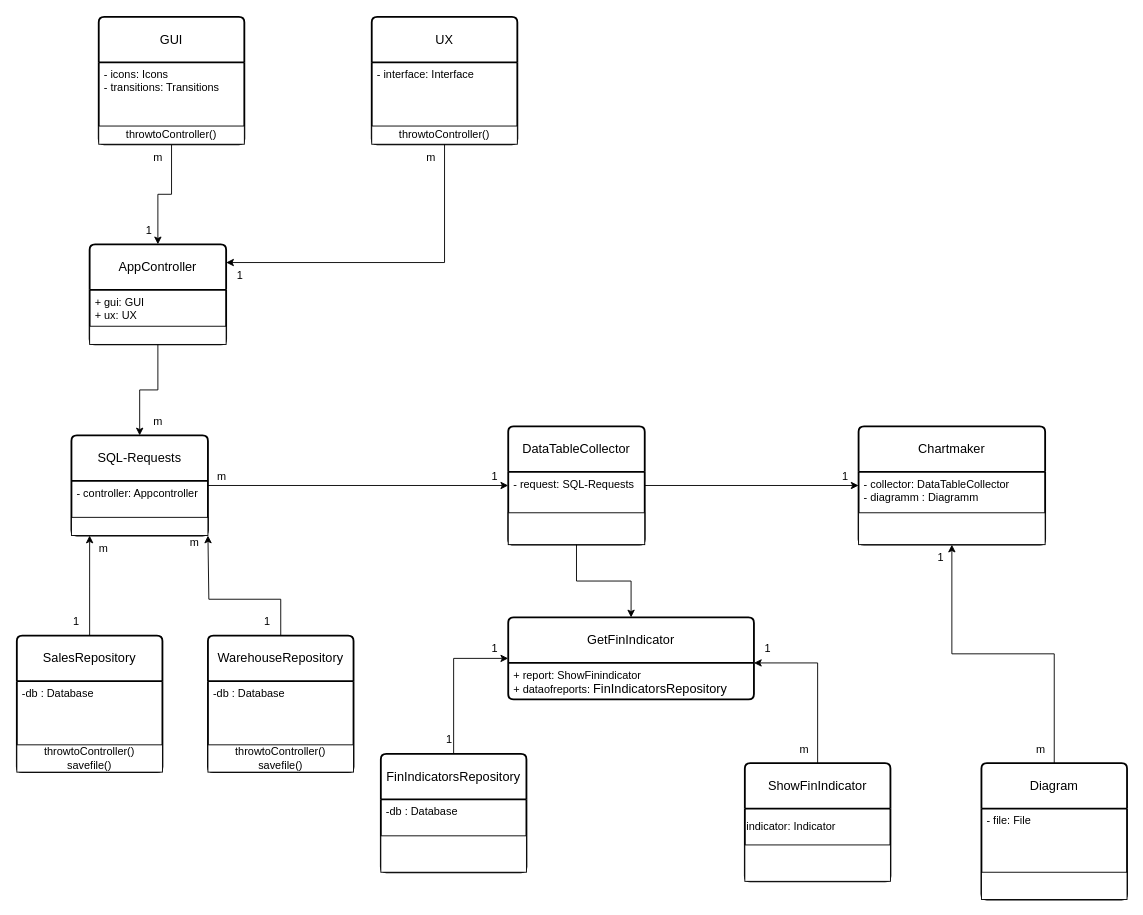
Image size: 1143x915. Some labels were removed from this diagram. The centre of each missing label's shape, as x and y in pixels:
CreateRequest(): point (157, 334)
show(): point (817, 862)
show(file): point (1054, 885)
showChart(this.diagramm): point (951, 528)
throwtoChartmaker(): point (576, 528)
throwtoDataCollector(): point (139, 526)
throwtoIndicator() savefile(): point (453, 853)
